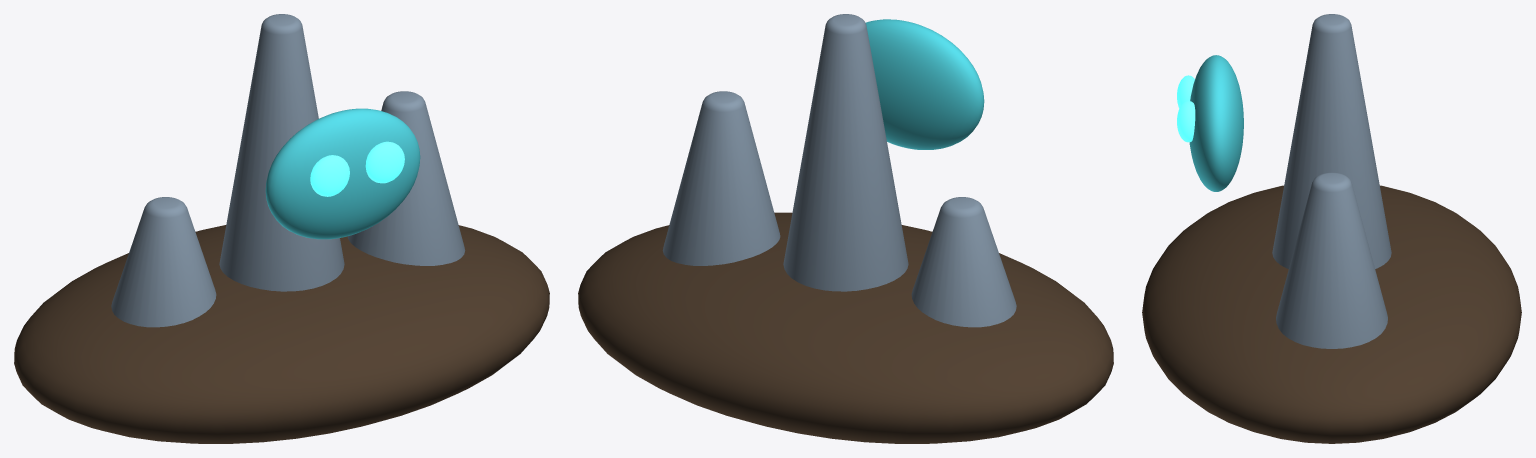
The model's file is ooze_v6.glb.
The picture shows the model from 3 angles, left to right: view 1: azimuth 30°, elevation 25°; view 2: azimuth 150°, elevation 25°; view 3: azimuth 270°, elevation 25°; orthographic projection. The views are drawn at different scales.
Parts seen in each view (by area): view 1: TAR_POOL_SECONDARY, TAR_SPIRE_PRIMARY.001, TAR_FACE_ACCENT, TAR_SPIRE_PRIMARY, TAR_SPIRE_PRIMARY.002, EYE_EMISSIVE, EYE_EMISSIVE.001; view 2: TAR_POOL_SECONDARY, TAR_SPIRE_PRIMARY.001, TAR_SPIRE_PRIMARY.002, TAR_FACE_ACCENT, TAR_SPIRE_PRIMARY; view 3: TAR_POOL_SECONDARY, TAR_SPIRE_PRIMARY.001, TAR_SPIRE_PRIMARY.002, TAR_FACE_ACCENT, EYE_EMISSIVE.001, EYE_EMISSIVE.
Boxes of the visible parts, left/top/right/bottom form: TAR_POOL_SECONDARY: left=14, top=225, right=549, bottom=443; TAR_SPIRE_PRIMARY.001: left=219, top=14, right=344, bottom=291; TAR_FACE_ACCENT: left=265, top=108, right=420, bottom=239; TAR_SPIRE_PRIMARY: left=111, top=197, right=216, bottom=327; TAR_SPIRE_PRIMARY.002: left=347, top=91, right=465, bottom=265; EYE_EMISSIVE: left=310, top=155, right=349, bottom=196; EYE_EMISSIVE.001: left=365, top=141, right=404, bottom=183; TAR_POOL_SECONDARY: left=578, top=212, right=1113, bottom=443; TAR_SPIRE_PRIMARY.001: left=783, top=14, right=908, bottom=291; TAR_SPIRE_PRIMARY.002: left=662, top=91, right=780, bottom=265; TAR_FACE_ACCENT: left=865, top=19, right=984, bottom=149; TAR_SPIRE_PRIMARY: left=911, top=197, right=1016, bottom=327; TAR_POOL_SECONDARY: left=1142, top=185, right=1521, bottom=443; TAR_SPIRE_PRIMARY.001: left=1272, top=14, right=1391, bottom=268; TAR_SPIRE_PRIMARY.002: left=1276, top=172, right=1387, bottom=348; TAR_FACE_ACCENT: left=1189, top=55, right=1243, bottom=191; EYE_EMISSIVE.001: left=1177, top=101, right=1195, bottom=142; EYE_EMISSIVE: left=1177, top=75, right=1194, bottom=108.
Bounding box in the file's own units: 2.36 × 1.7 × 1.64.
